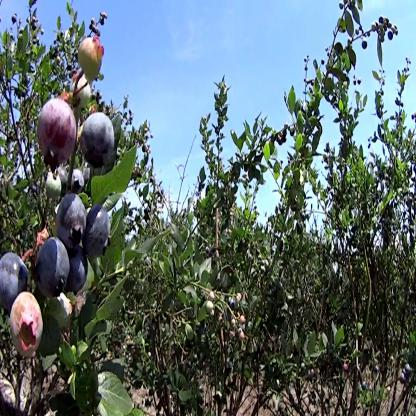intermediate: (33, 94, 80, 162), (10, 294, 47, 361)
mature: (32, 236, 70, 294), (81, 106, 116, 165), (54, 195, 87, 246), (2, 250, 27, 304), (82, 208, 111, 249), (71, 250, 86, 288), (68, 169, 88, 192)
young: (44, 172, 63, 198), (82, 47, 101, 68), (82, 88, 90, 105), (206, 301, 215, 312), (208, 290, 216, 300)
